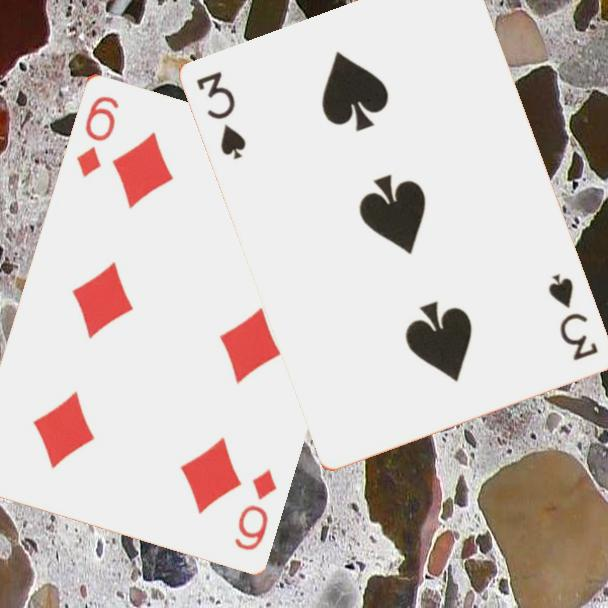d06: (230, 464, 280, 553), (72, 92, 122, 180)
s03: (193, 68, 250, 163), (545, 270, 602, 364)
